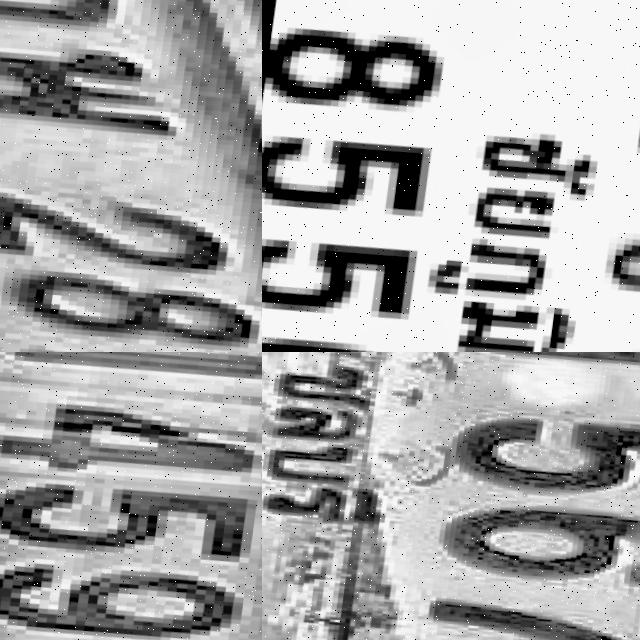license-plate: (262, 0, 640, 352), (262, 352, 640, 640), (0, 0, 262, 352), (0, 352, 262, 640)
